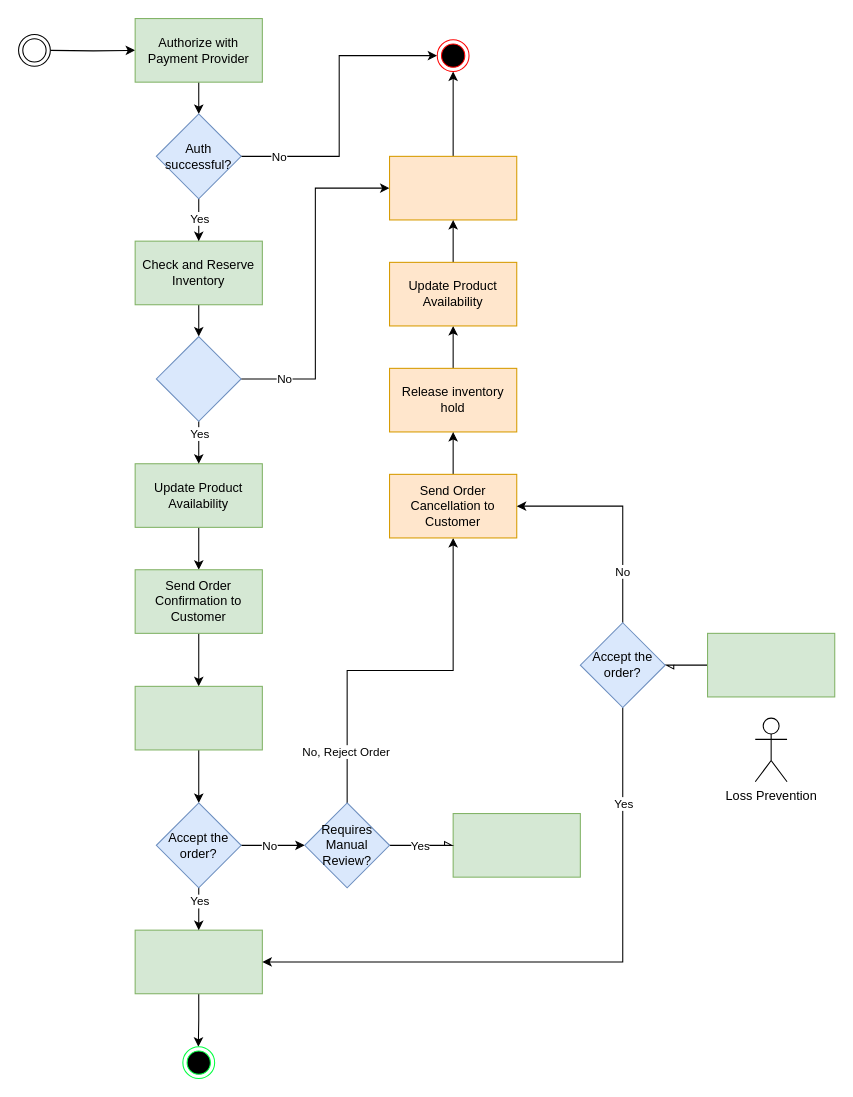
Image size: 853x1097. Some labels were removed from this diagram. Each missing label, with the box of its shape:
Inventory available?: (155, 335, 241, 421)
Manual Review Process: (706, 632, 835, 697)
Perform Fraud Check: (134, 685, 262, 750)
Release Order for Fulfillment: (134, 929, 262, 994)
Reverse Authorization: (388, 155, 517, 220)
Wait for Final Decision: (452, 812, 580, 877)
